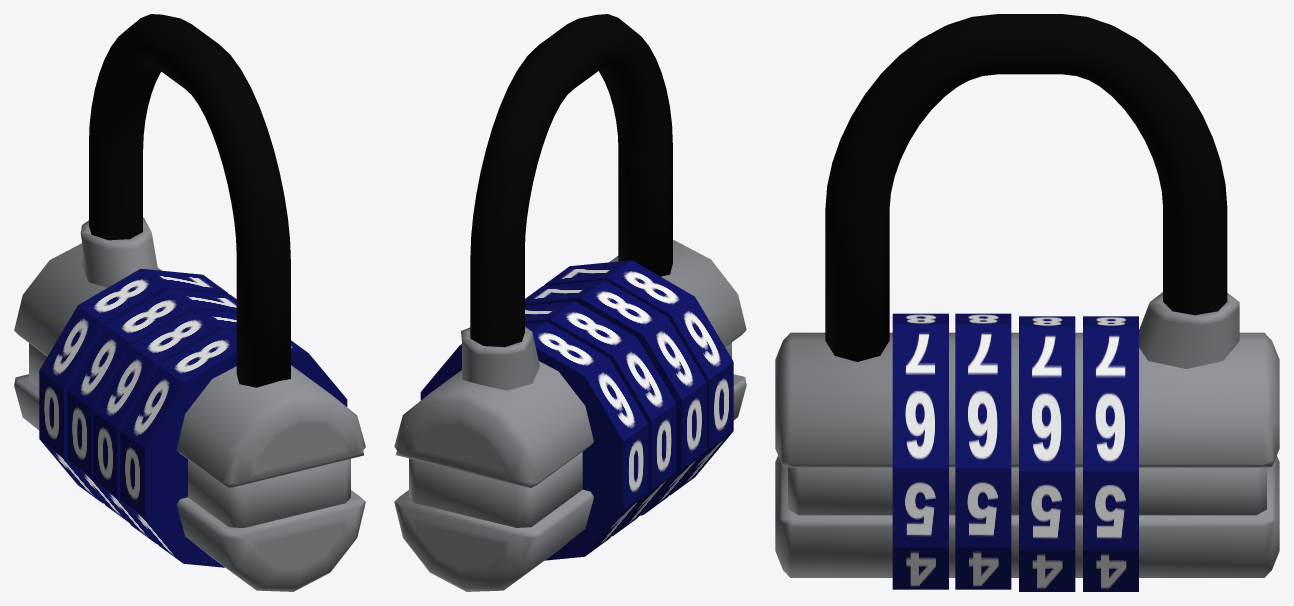
The model's file is CombinationLock Locked.glb.
3 views of the same model, side by side, from view 1: azimuth 30°, elevation 25°; view 2: azimuth 150°, elevation 25°; view 3: azimuth 270°, elevation 25° (orthographic). The views are drawn at different scales.
Visible parts, largest first — view 1: hoop metal lock, hoop metal lock.001, 1st wheel.003, 1st wheel, 1st wheel.001, 1st wheel.002; view 2: hoop metal lock, hoop metal lock.001, 1st wheel, 1st wheel.002, 1st wheel.003, 1st wheel.001; view 3: hoop metal lock, hoop metal lock.001, 1st wheel.002, 1st wheel.003, 1st wheel.001, 1st wheel.
Part boxes in pixels (left/top/right/bottom): hoop metal lock: left=14, top=217, right=365, bottom=591; hoop metal lock.001: left=89, top=14, right=290, bottom=387; 1st wheel.003: left=120, top=329, right=347, bottom=567; 1st wheel: left=39, top=268, right=229, bottom=503; 1st wheel.001: left=67, top=289, right=236, bottom=522; 1st wheel.002: left=93, top=309, right=236, bottom=543; hoop metal lock: left=394, top=240, right=746, bottom=591; hoop metal lock.001: left=470, top=14, right=672, bottom=347; 1st wheel: left=420, top=321, right=648, bottom=560; 1st wheel.002: left=525, top=280, right=706, bottom=515; 1st wheel.003: left=544, top=260, right=733, bottom=495; 1st wheel.001: left=525, top=301, right=676, bottom=536; hoop metal lock: left=775, top=292, right=1279, bottom=577; hoop metal lock.001: left=825, top=14, right=1227, bottom=361; 1st wheel.002: left=955, top=313, right=1011, bottom=589; 1st wheel.003: left=892, top=313, right=948, bottom=589; 1st wheel.001: left=1019, top=316, right=1075, bottom=591; 1st wheel: left=1083, top=316, right=1138, bottom=591.
Size of the model in its own units: 2.78 by 6.43 by 5.19.
3 materials, 3 textured.
